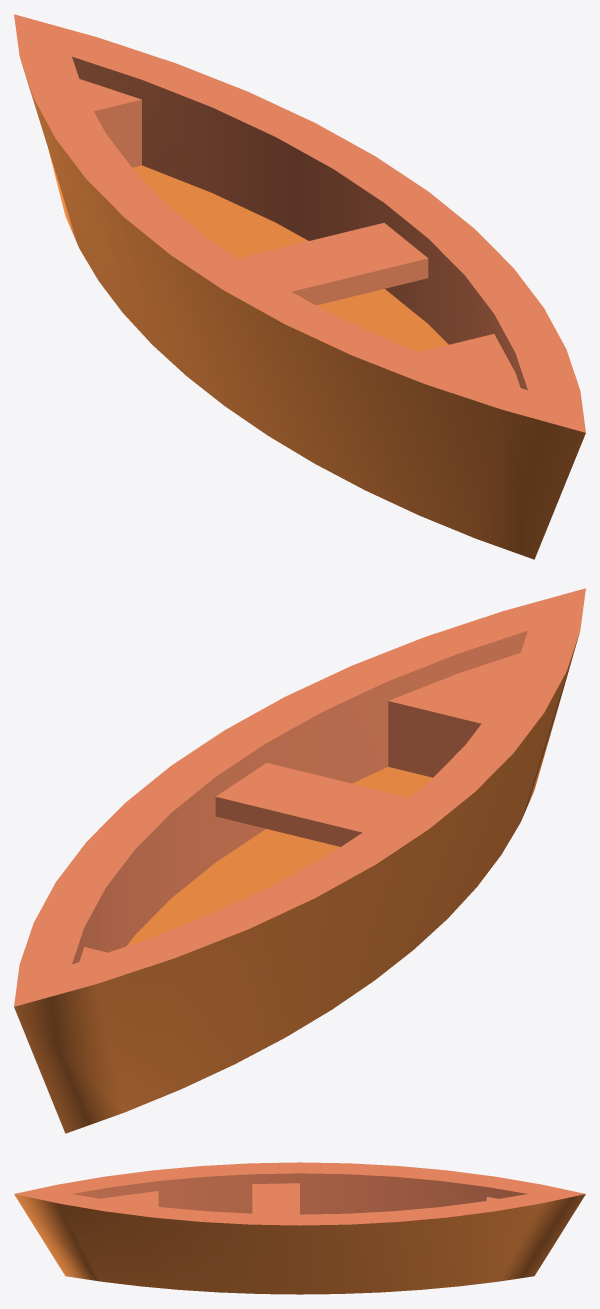
The model's file is canoe.obj.
The picture shows the model from 3 angles, top to bottom: view 1: azimuth 30°, elevation 25°; view 2: azimuth 150°, elevation 25°; view 3: azimuth 270°, elevation 25°; orthographic projection. The views are drawn at different scales.
Parts seen in each view (by area): view 1: canoe; view 2: canoe; view 3: canoe.
Boxes of the visible parts, x1,y1,x2,y2 form: canoe: (14, 14, 585, 559); canoe: (14, 588, 585, 1133); canoe: (14, 1162, 585, 1294).
Bounding box in the file's own units: 0.3 × 0.1825 × 1.15.
